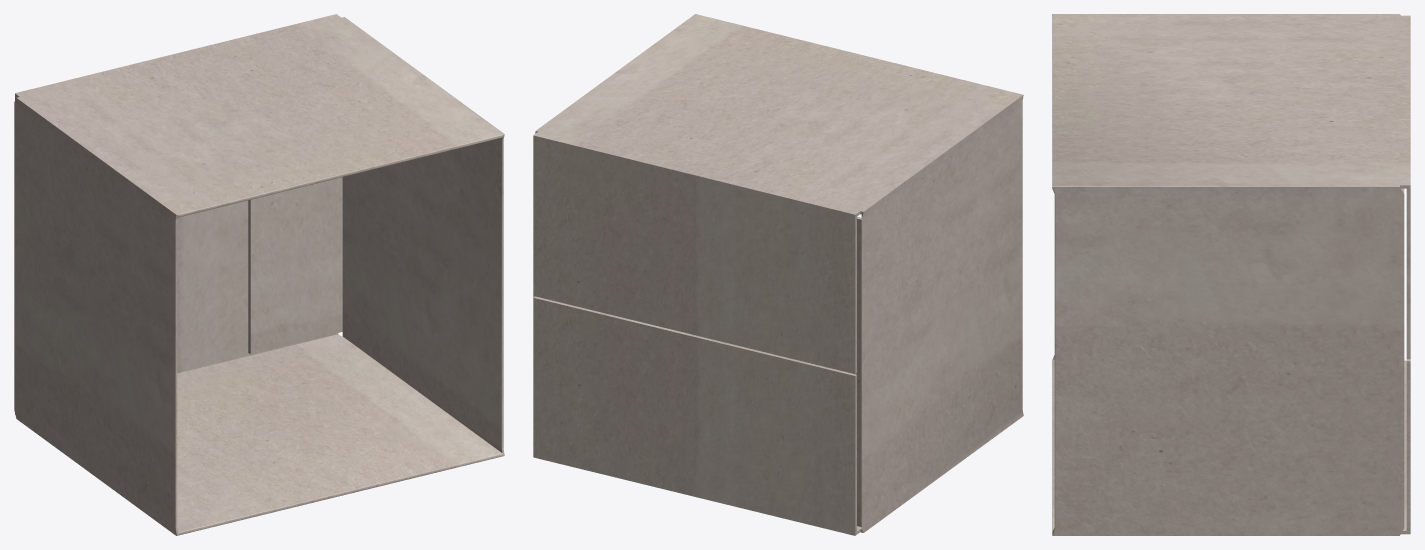
Rendered from MeshBox_20_0.obj.
3 views of the same model, side by side, from view 1: azimuth 30°, elevation 25°; view 2: azimuth 150°, elevation 25°; view 3: azimuth 270°, elevation 25° (orthographic). The views are drawn at different scales.
Parts seen in each view (by area): view 1: Box_20; view 2: Box_20; view 3: Box_20.
Part boxes in pixels (x1,y1,x2,y2): Box_20: [14, 14, 504, 535]; Box_20: [533, 14, 1023, 535]; Box_20: [1052, 14, 1410, 535].
Size of the model in its own units: 0.2562 by 0.2401 by 0.2234.
1 material, 1 textured.
